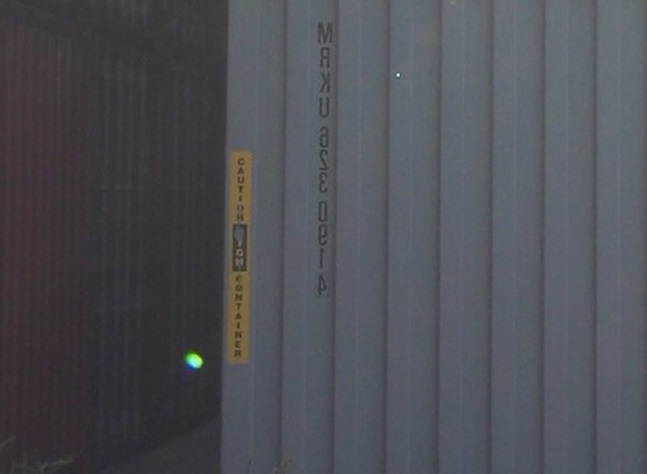container_no_door: (218, 1, 645, 466)
